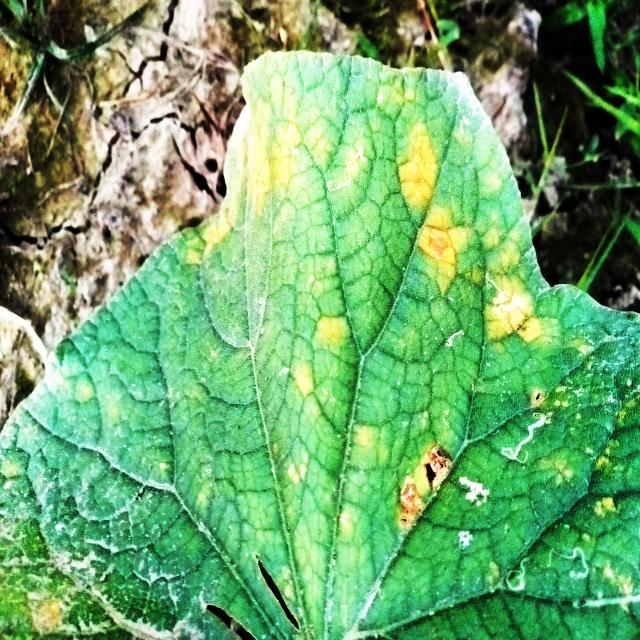Downy-Mildew: (0, 48, 640, 640)
